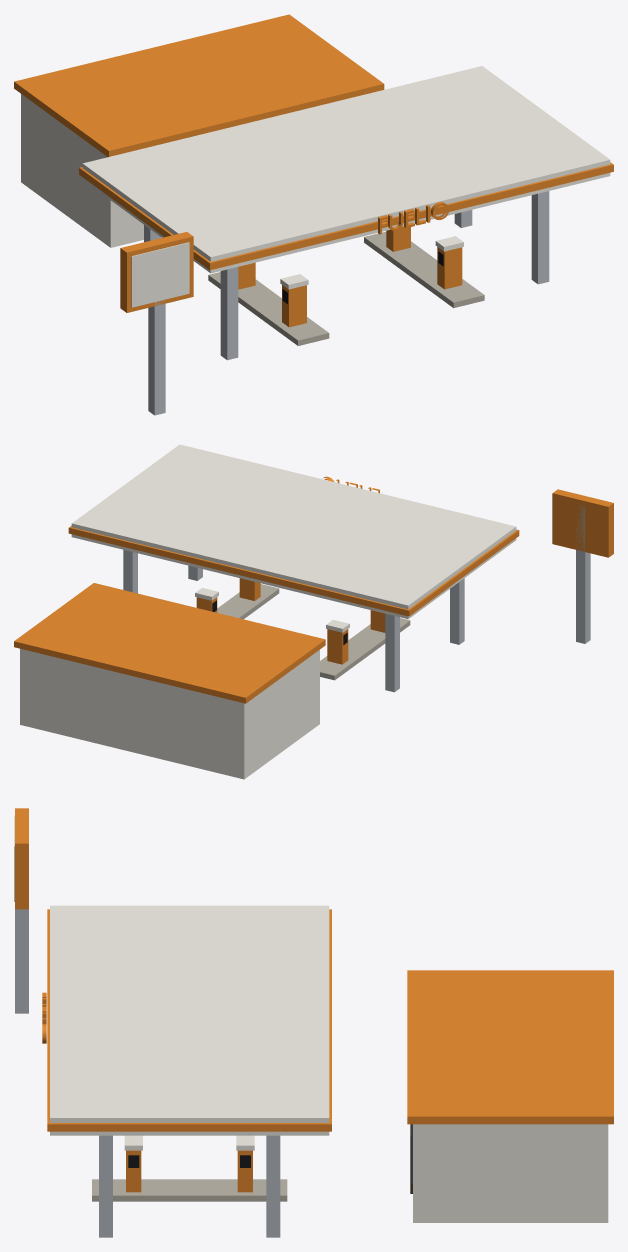
Rendered from gas_station.glb.
3 views of the same model, one above another, from view 1: azimuth 30°, elevation 25°; view 2: azimuth 150°, elevation 25°; view 3: azimuth 270°, elevation 25° (orthographic). The views are drawn at different scales.
Visible parts, largest first — view 1: gas_station; view 2: gas_station; view 3: gas_station.
Boxes of the visible parts, x1,y1,x2,y2 form: gas_station: [14, 14, 613, 415]; gas_station: [14, 444, 613, 779]; gas_station: [14, 808, 613, 1237].
Size of what is drawn, in the model's own units: 22.6 by 7.3 by 21.49.
